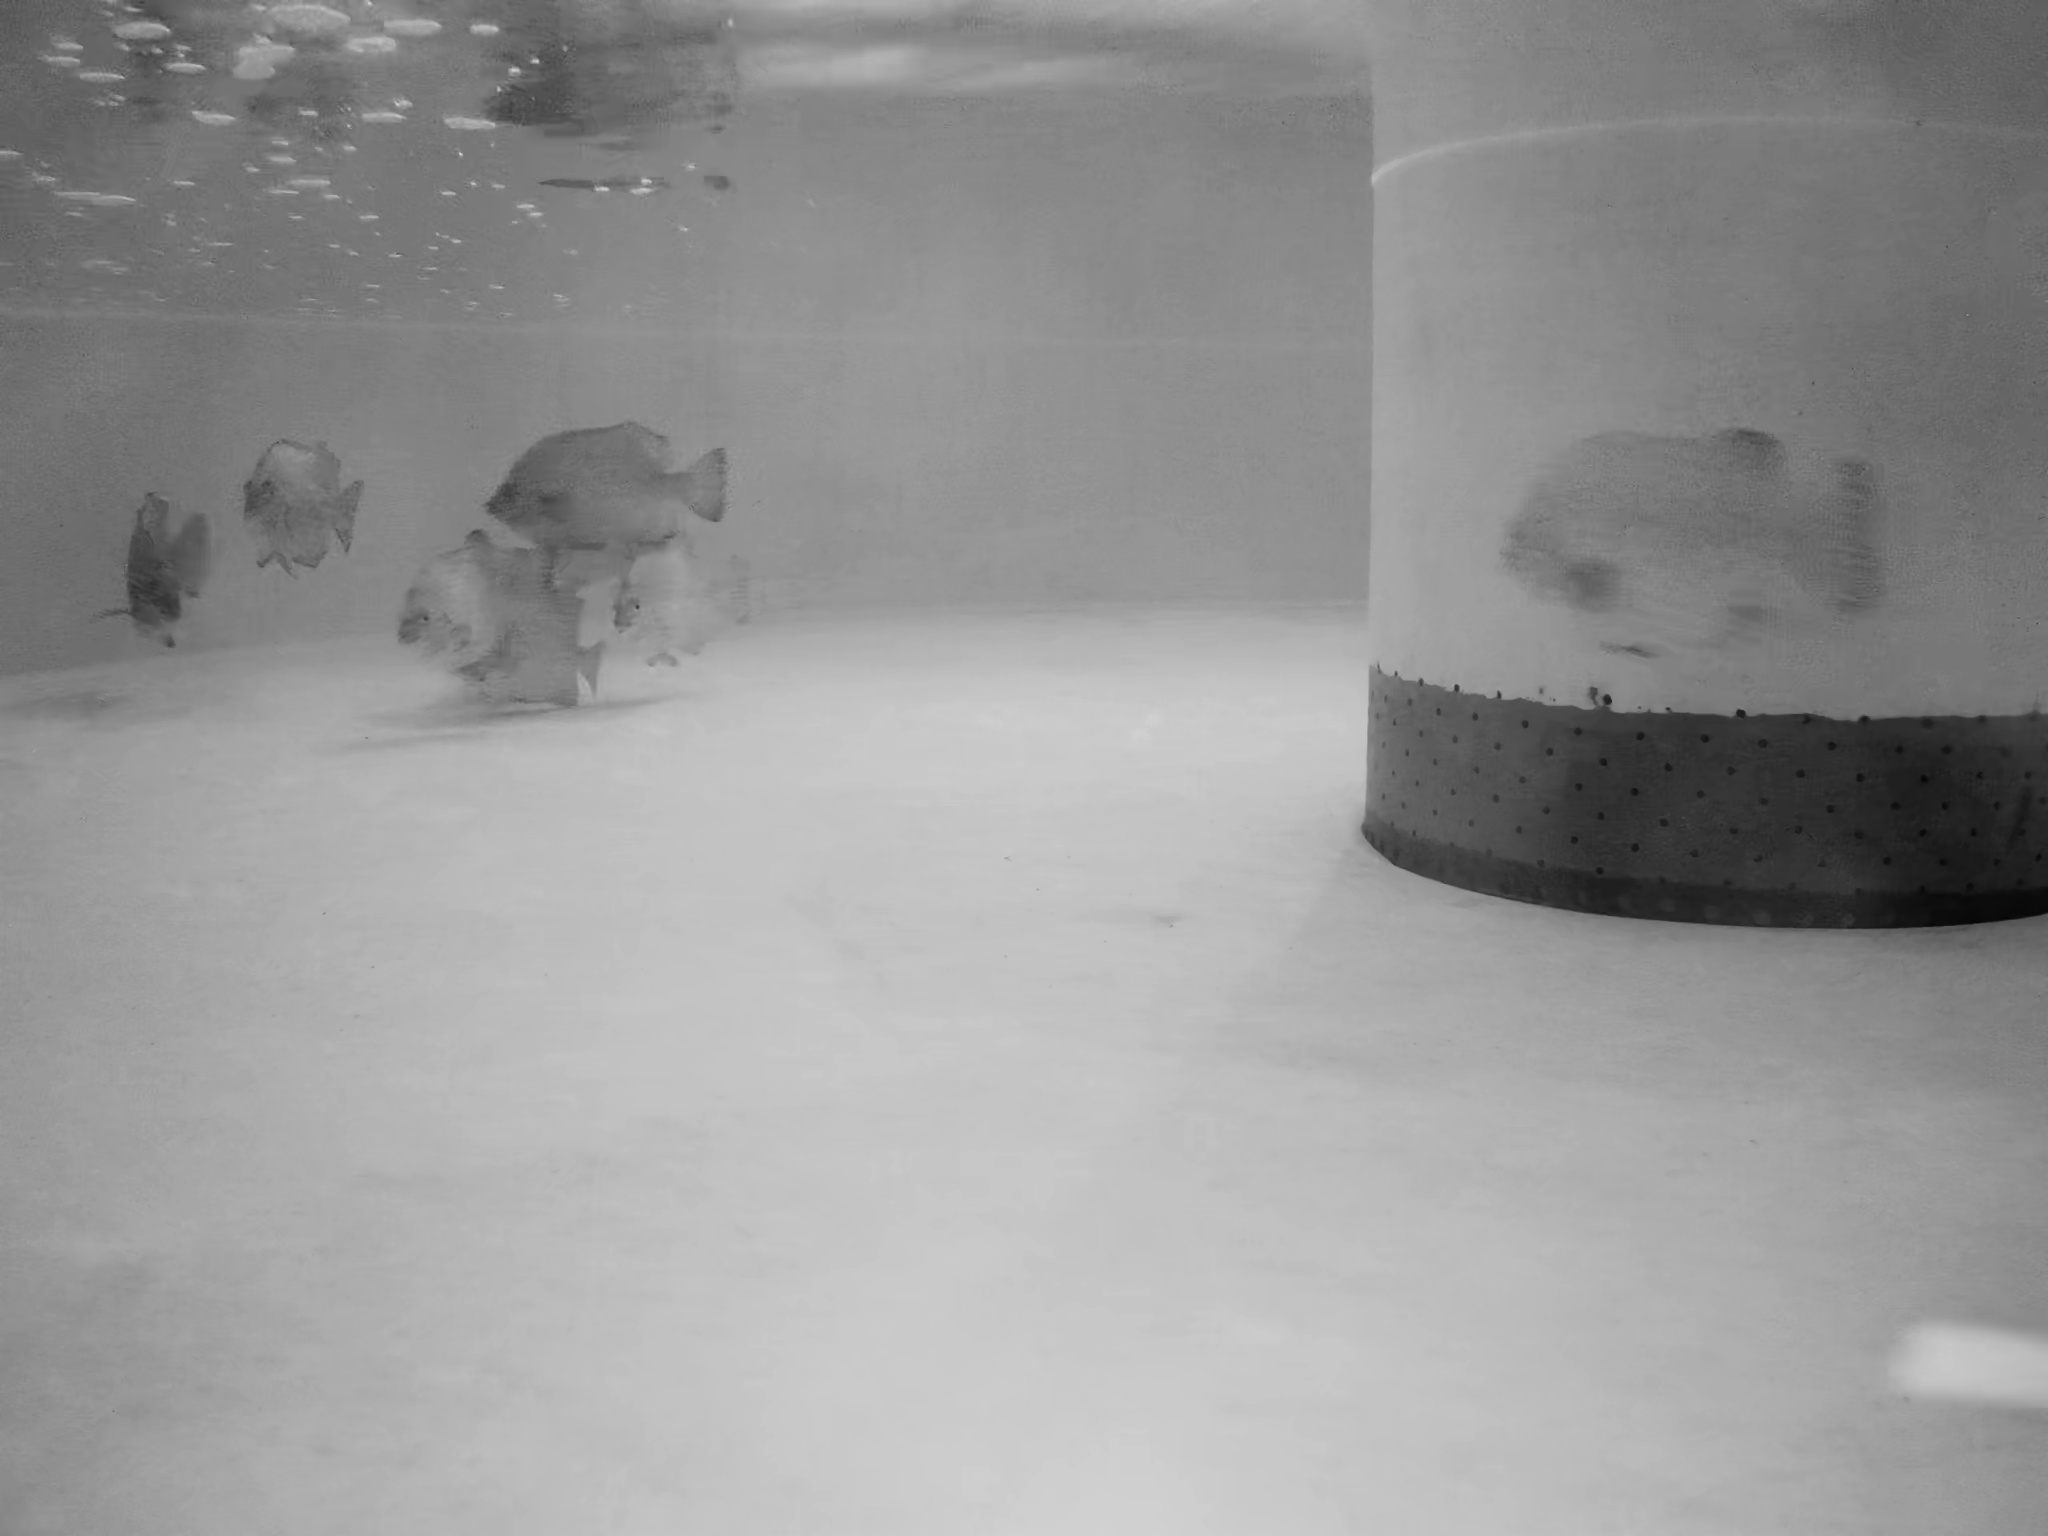fish: (1500, 418, 1880, 665), (485, 423, 742, 549), (387, 536, 577, 668), (619, 537, 761, 671), (466, 586, 608, 713), (244, 436, 369, 576), (111, 490, 213, 641)
